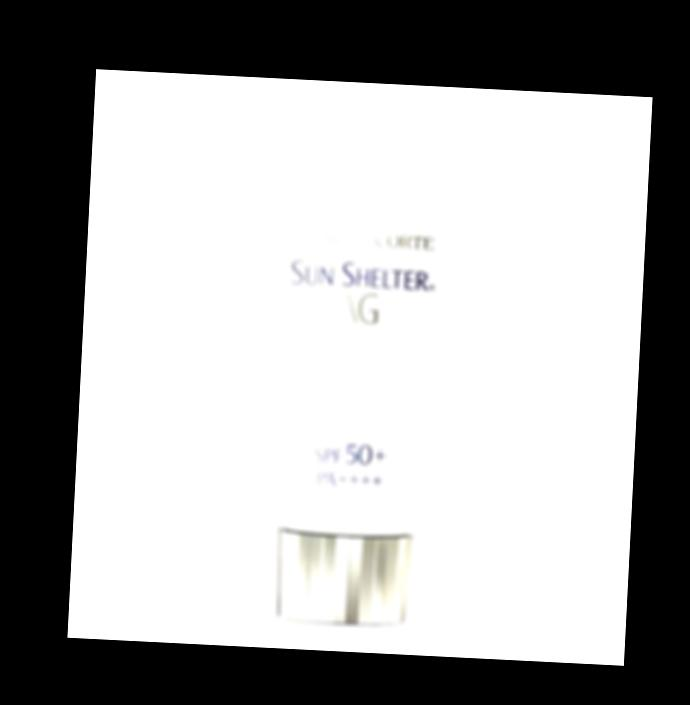cosmetic: (246, 121, 460, 630)
